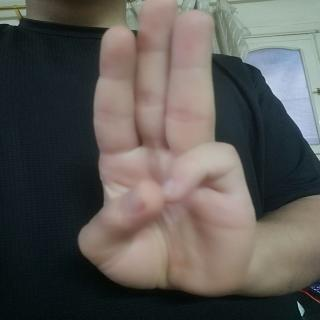THA: (76, 0, 266, 302)
